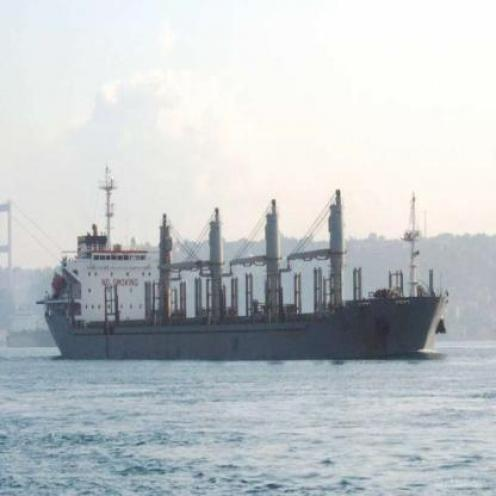Ship: (29, 232, 470, 363)
